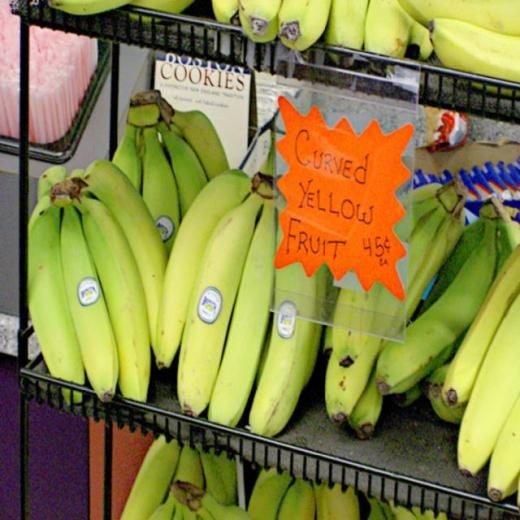Banana: (29, 88, 520, 510), (47, 0, 519, 100), (20, 149, 168, 438), (119, 432, 451, 519), (176, 190, 262, 423)
